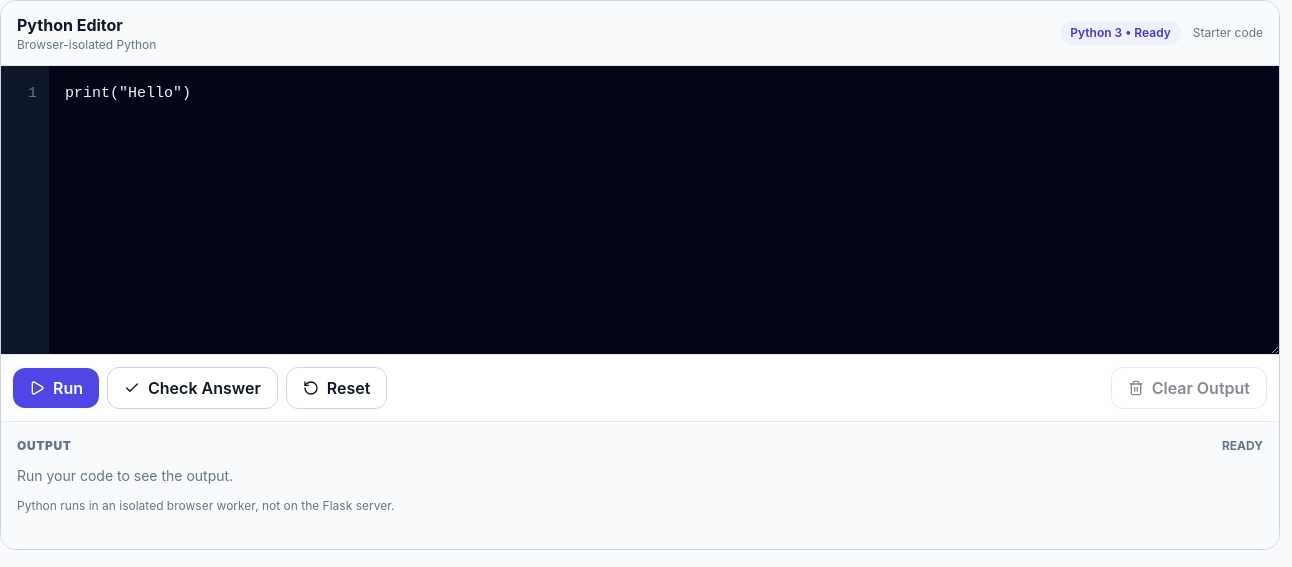
Test: Python editor keyboard behavior › blocks duplicate Run clicks while execution is active
Click the button "Run" at (56, 388), box [13, 368, 99, 408]
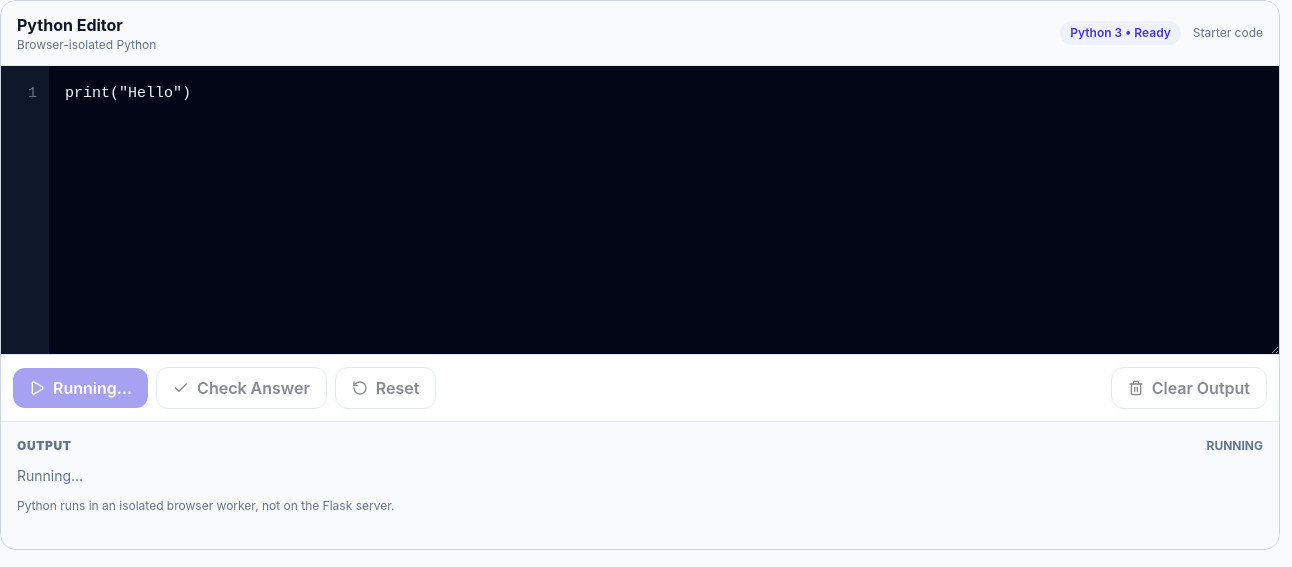
Click the button "Running…" at (81, 388), box [13, 368, 148, 408]
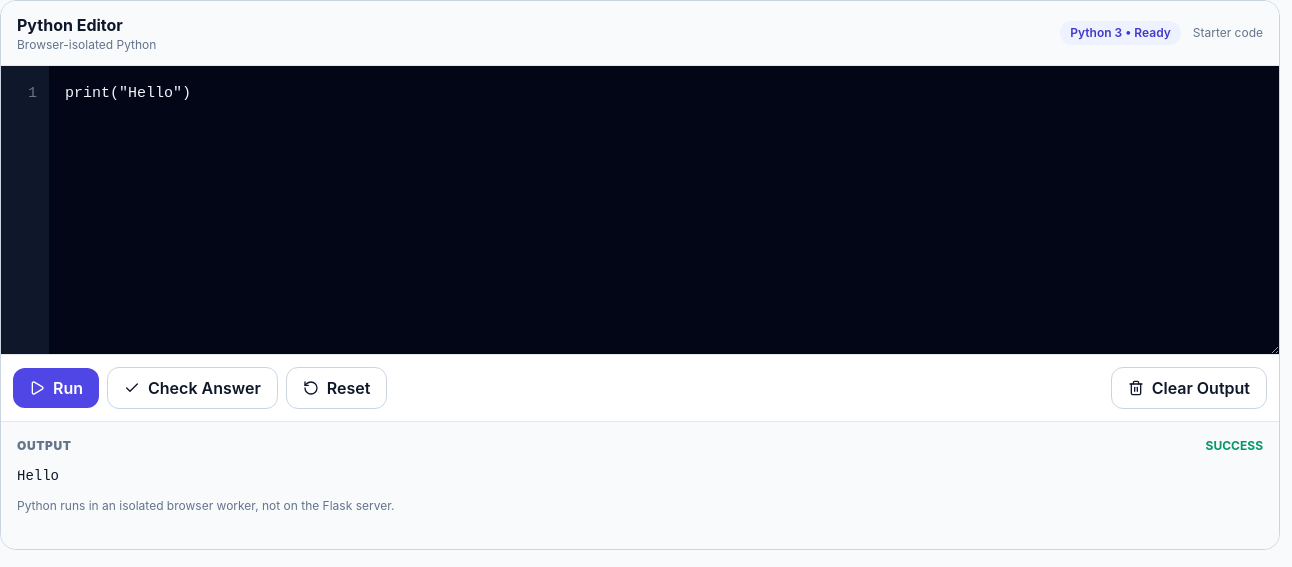
Check: the text "Hello" is shown, box [17, 468, 59, 484]
